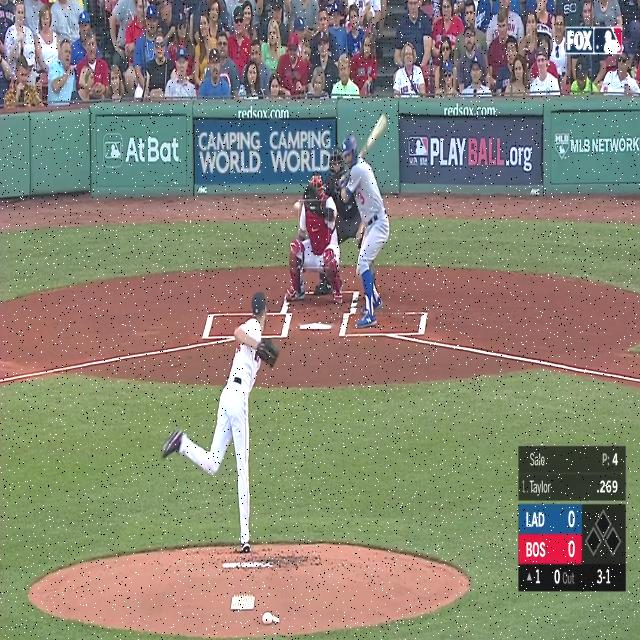baseball: (293, 201, 301, 212)
